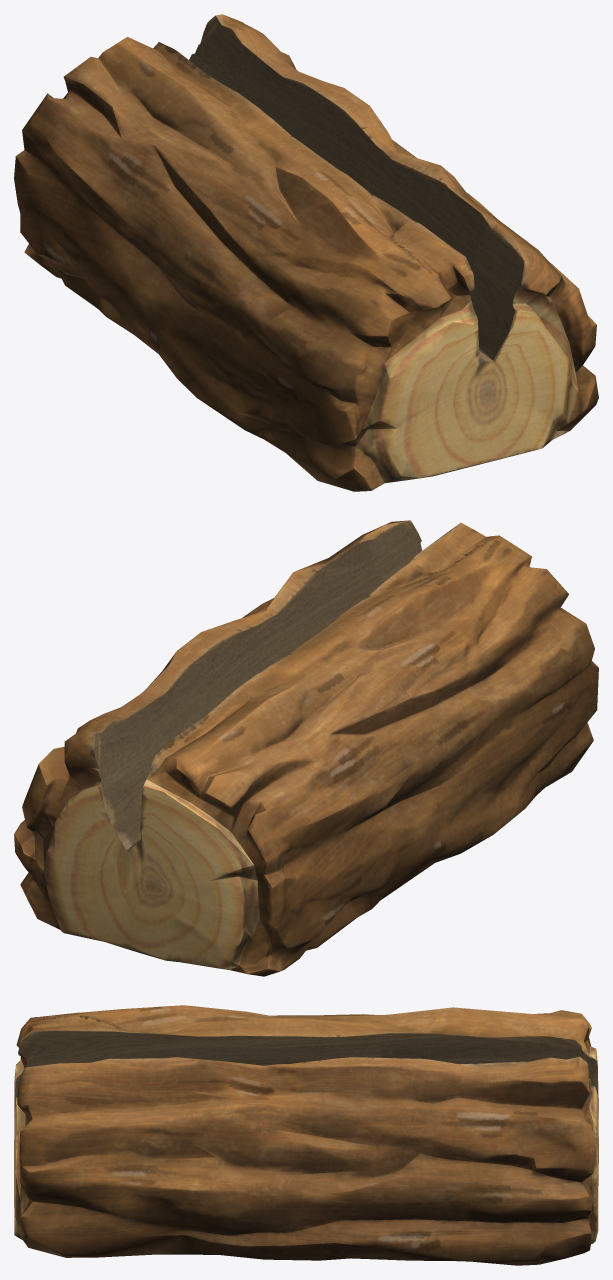
File: MemoRoute_CardHolder.fbx
3 views of the same model, one above another, from view 1: azimuth 30°, elevation 25°; view 2: azimuth 150°, elevation 25°; view 3: azimuth 270°, elevation 25° (orthographic). The views are drawn at different scales.
Parts seen in each view (by area): view 1: MemoRoute_CardHolder; view 2: MemoRoute_CardHolder; view 3: MemoRoute_CardHolder.
Boxes of the visible parts, x1,y1,x2,y2 form: MemoRoute_CardHolder: [14, 14, 598, 491]; MemoRoute_CardHolder: [14, 520, 598, 976]; MemoRoute_CardHolder: [14, 1005, 598, 1265].
Bounding box in the file's own units: 2.11 × 1.41 × 3.99.
